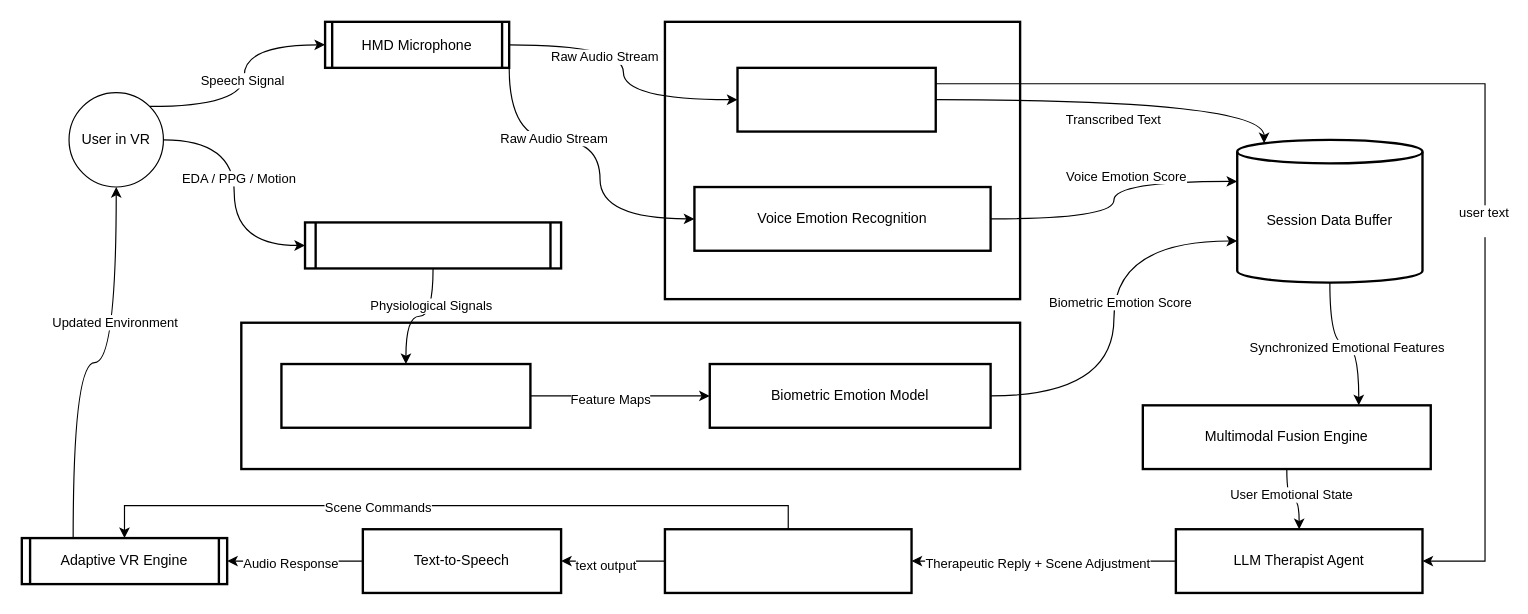
Image size: 1528x614. Some labels were removed from this diagram. The centre of each missing label's shape, as x and y in pixels:
Hand Grips & VR Sensors: the point at 432,245
Response Generator: the point at 787,560
Signal Preprocessing: the point at 405,395
Speech-to-Text: the point at 836,99
